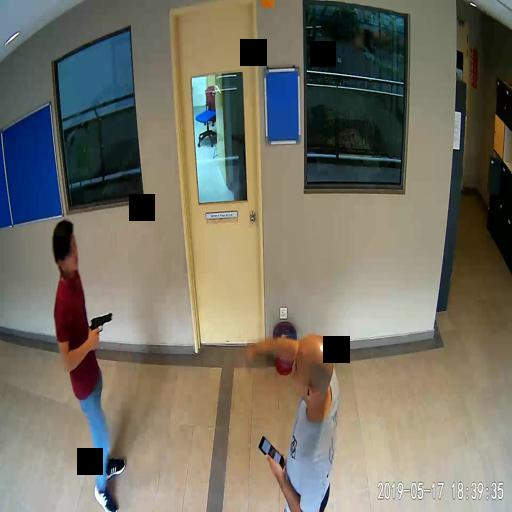Handgun: (88, 310, 111, 344)
